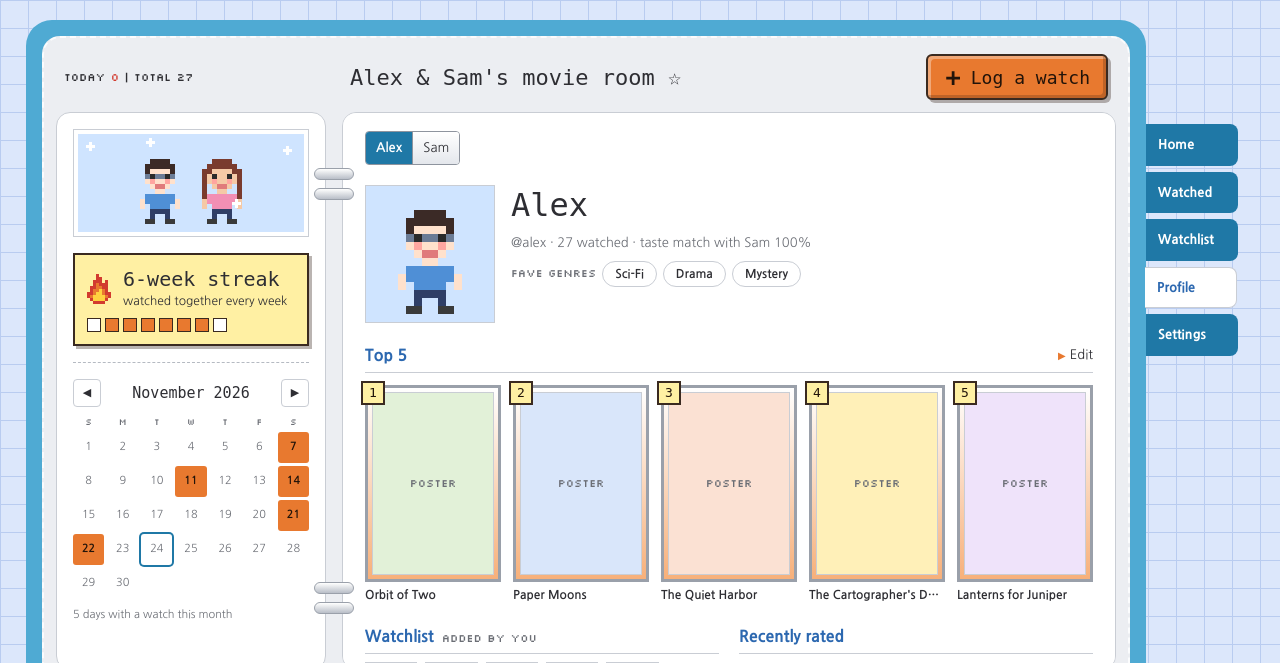
profile › edits my Top 5 with only watched titles
The image size is (1280, 663).
Click the button "▶ Edit" at (1076, 355), box [1058,343,1093,367]
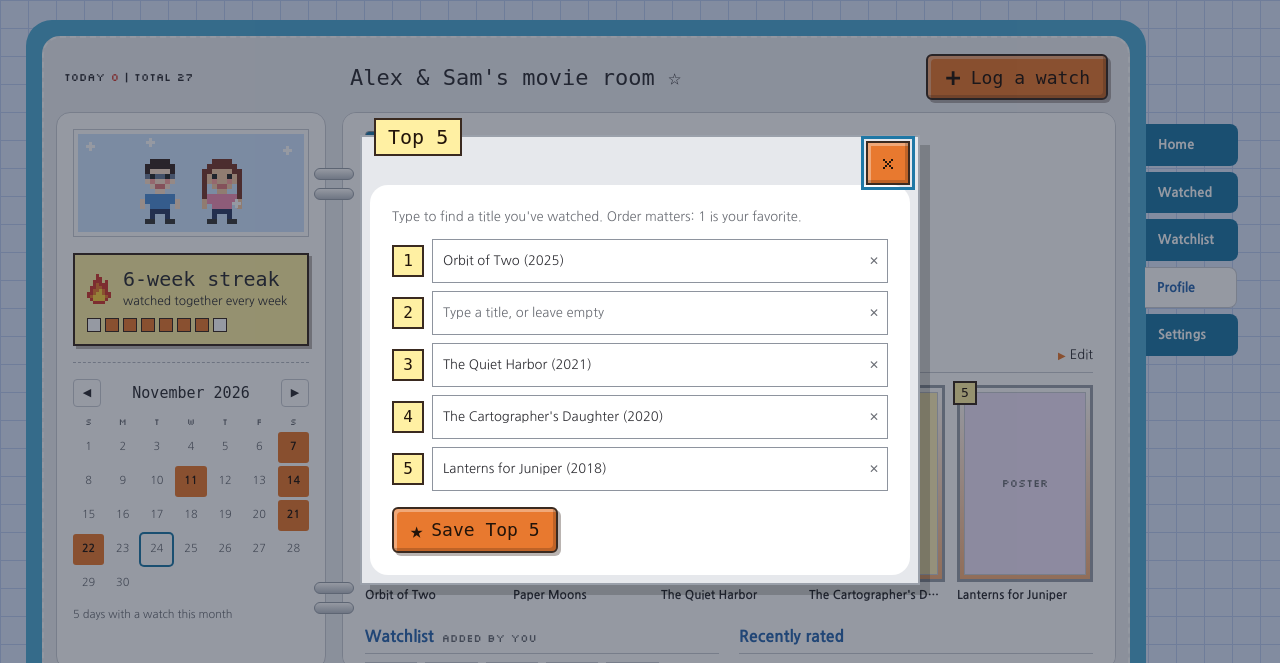
Type "signal" into the dropdown named "Number 5" at (647, 469), box [433,448,861,490]
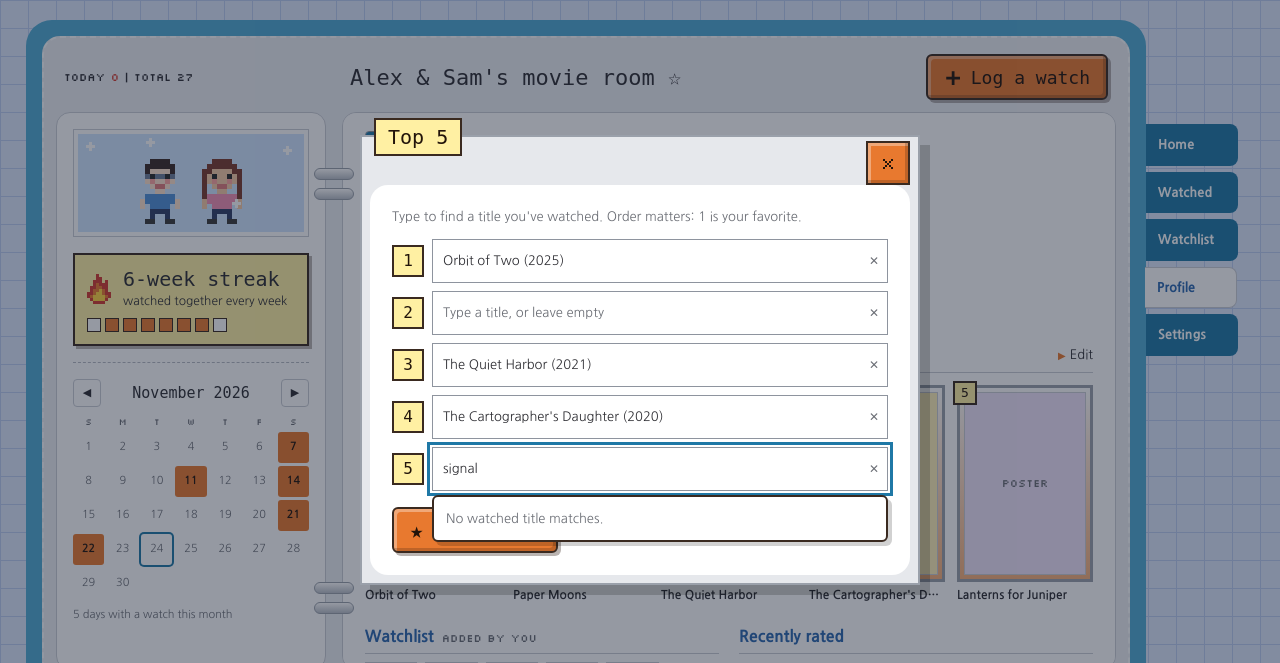
expect the list item "No watched title matches." is shown: met, box [446,512,603,525]
Replace the text in the dropdown named "Number 5" with "night bus" at (647, 469), box [433,448,861,490]
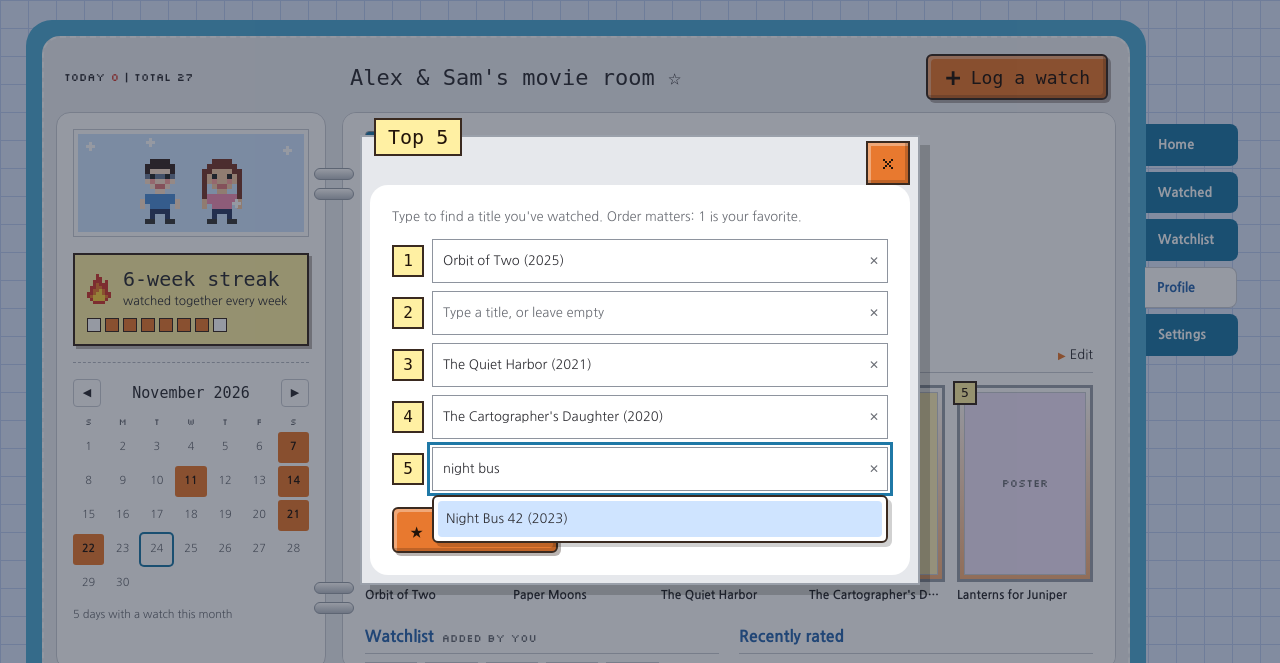
Click the option "Night Bus 42 (2023)" at (507, 518), box [438,501,882,537]
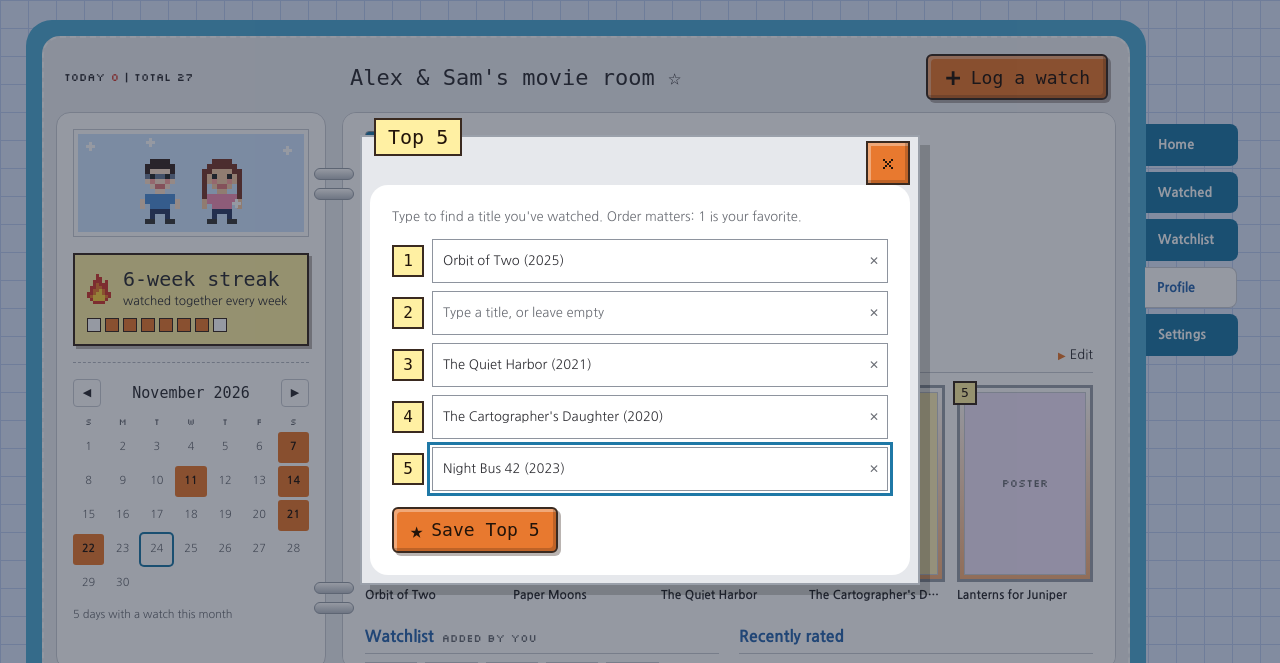
expect the dropdown named "Number 5" holds "Night Bus 42 (2023)": met, box [433,448,861,490]
Click the button "★ Save Top 5" at (475, 530), box [392,507,558,553]
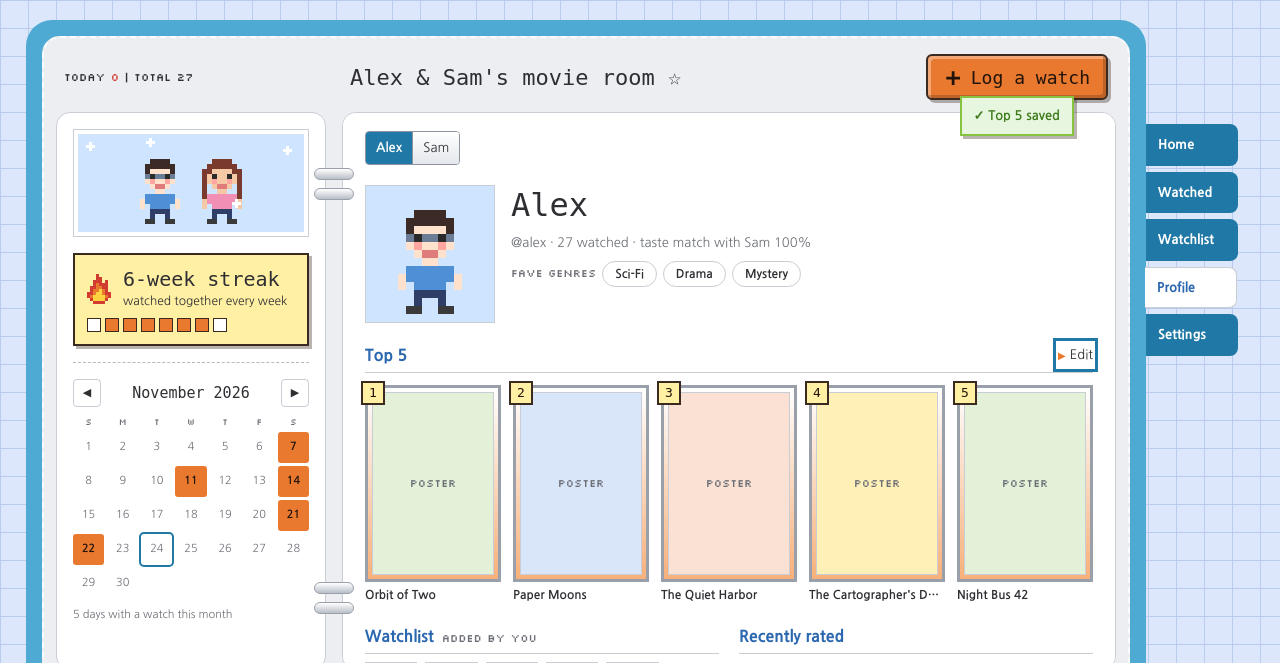
expect the text "✓ Top 5 saved" is shown: met, box [960,96,1074,136]
